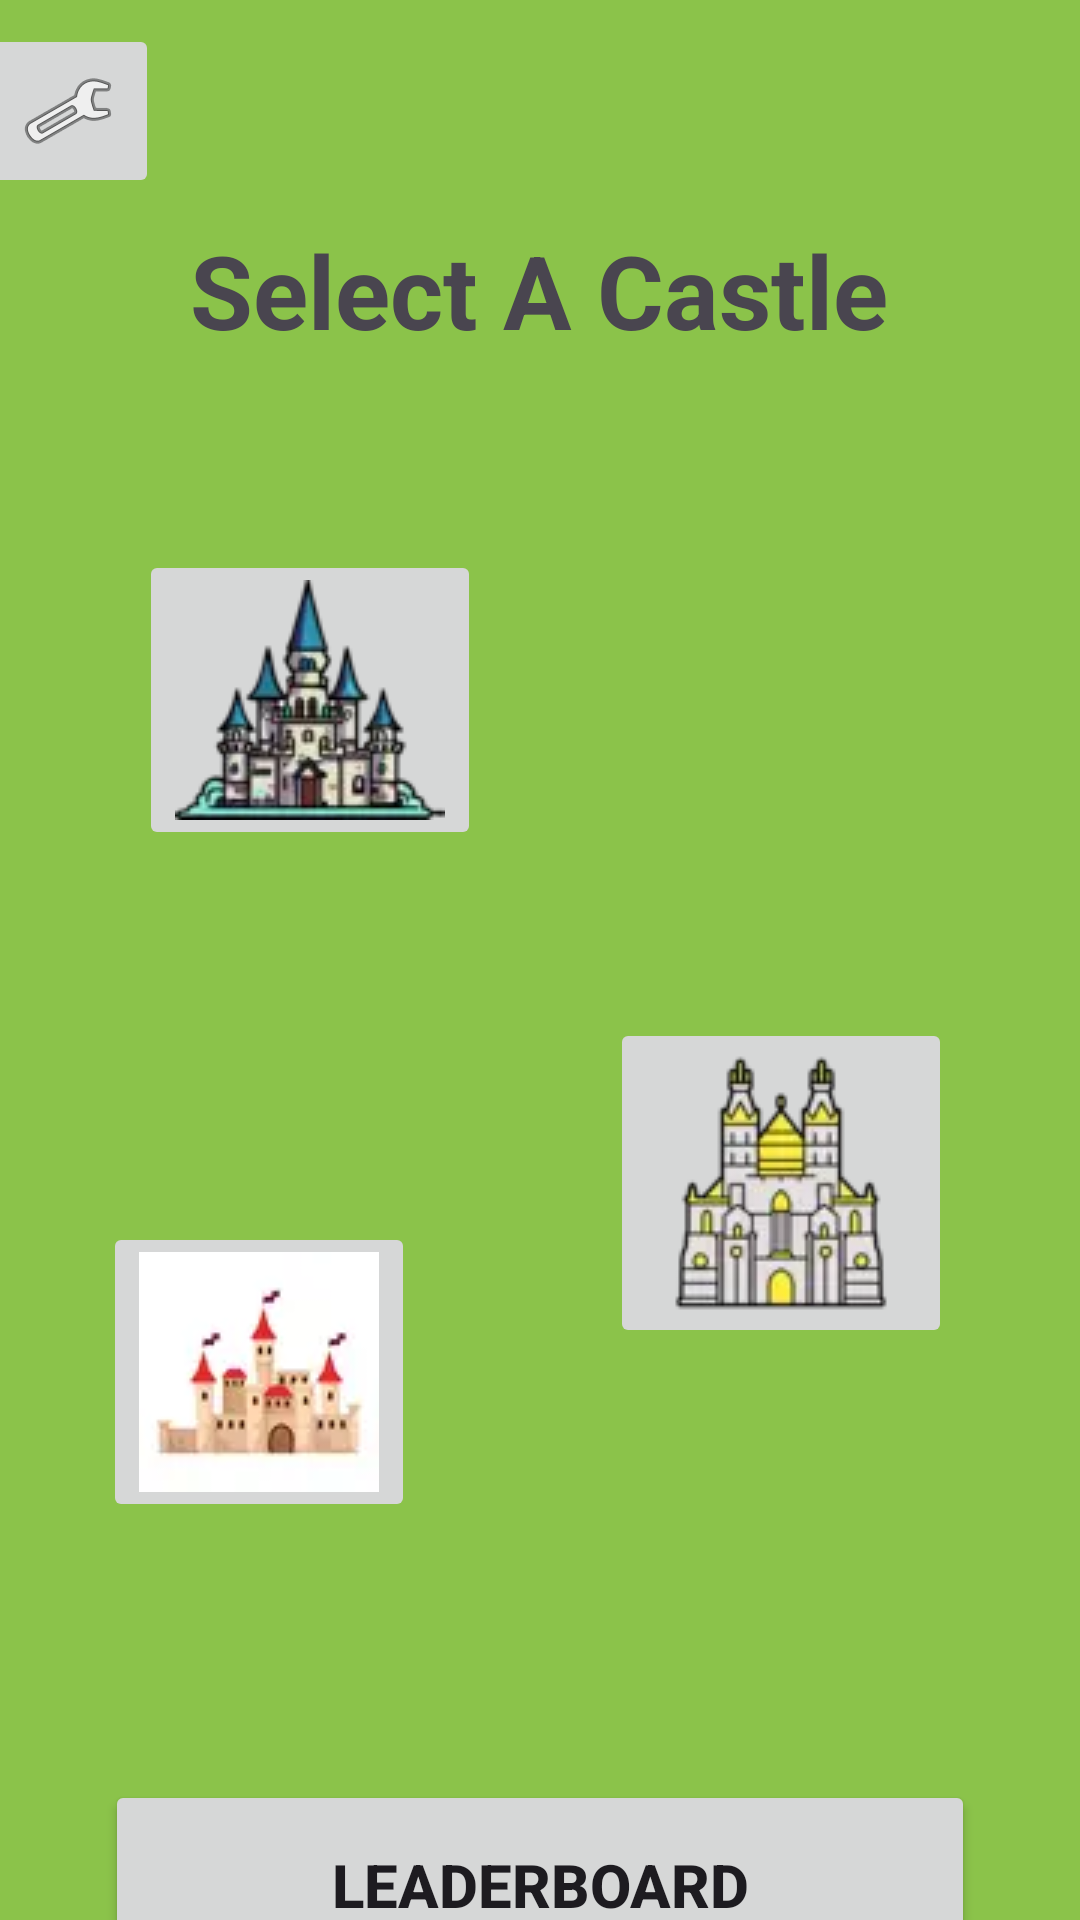

Named icons in this screenshot (1080 x 1920) and their bounding boxes, (x1, y1, x2, y2):
castle: (151, 568, 469, 832), (622, 1036, 940, 1330), (115, 1240, 403, 1504)
